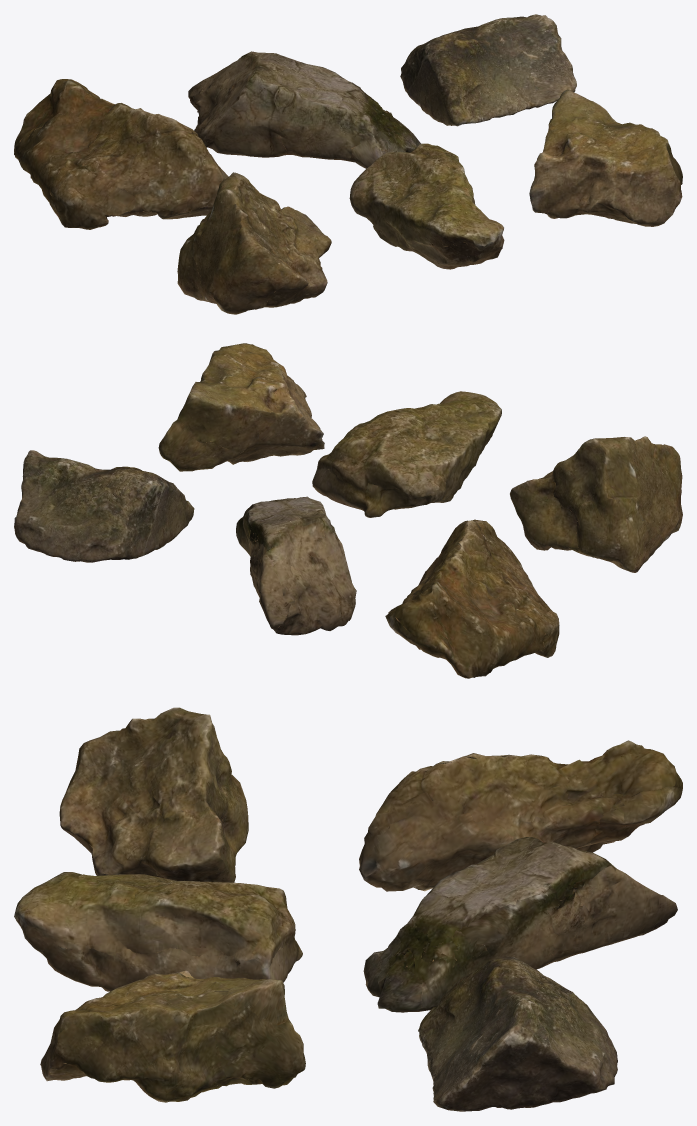
File: rock_moss_set_01.glb
3 renders of one model, top to bottom at view 1: azimuth 30°, elevation 25°; view 2: azimuth 150°, elevation 25°; view 3: azimuth 270°, elevation 25°, orthographic. The views are drawn at different scales.
Visible parts, largest first — view 1: rock_moss_set_01_rock01, rock_moss_set_01_rock02, rock_moss_set_01_rock06, rock_moss_set_01_rock04, rock_moss_set_01_rock03, rock_moss_set_01_rock05; view 2: rock_moss_set_01_rock04, rock_moss_set_01_rock01, rock_moss_set_01_rock05, rock_moss_set_01_rock03, rock_moss_set_01_rock06, rock_moss_set_01_rock02; view 3: rock_moss_set_01_rock01, rock_moss_set_01_rock02, rock_moss_set_01_rock05, rock_moss_set_01_rock06, rock_moss_set_01_rock04, rock_moss_set_01_rock03.
Boxes of the visible parts, x1=… form: rock_moss_set_01_rock01: x1=14, y1=79, x2=228, y2=229; rock_moss_set_01_rock02: x1=188, y1=51, x2=420, y2=168; rock_moss_set_01_rock06: x1=529, y1=89, x2=682, y2=226; rock_moss_set_01_rock04: x1=177, y1=172, x2=331, y2=314; rock_moss_set_01_rock03: x1=400, y1=14, x2=576, y2=126; rock_moss_set_01_rock05: x1=349, y1=143, x2=504, y2=269; rock_moss_set_01_rock04: x1=510, y1=436, x2=682, y2=572; rock_moss_set_01_rock01: x1=385, y1=519, x2=559, y2=678; rock_moss_set_01_rock05: x1=312, y1=391, x2=501, y2=517; rock_moss_set_01_rock03: x1=14, y1=450, x2=194, y2=562; rock_moss_set_01_rock06: x1=158, y1=343, x2=324, y2=471; rock_moss_set_01_rock02: x1=236, y1=496, x2=356, y2=635; rock_moss_set_01_rock01: x1=359, y1=740, x2=682, y2=891; rock_moss_set_01_rock02: x1=363, y1=837, x2=677, y2=1012; rock_moss_set_01_rock05: x1=14, y1=872, x2=302, y2=991; rock_moss_set_01_rock06: x1=40, y1=970, x2=305, y2=1102; rock_moss_set_01_rock04: x1=59, y1=707, x2=248, y2=882; rock_moss_set_01_rock03: x1=418, y1=956, x2=617, y2=1111.
Bounding box in the file's own units: 8 × 1.77 × 6.95.
1 material, 1 textured.
